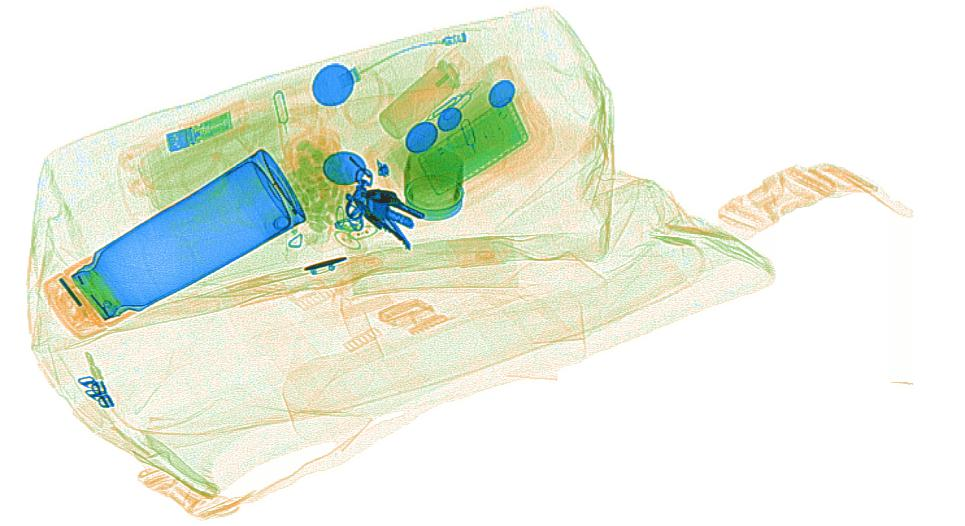USBFlashDisk: (163, 108, 233, 155)
pressure: (378, 40, 489, 141)
